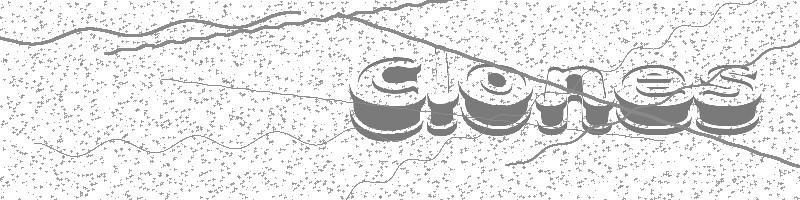c: (348, 55, 426, 144)
e: (613, 64, 694, 136)
l: (427, 44, 460, 137)
n: (536, 65, 612, 135)
o: (459, 62, 534, 137)
s: (693, 62, 761, 137)
